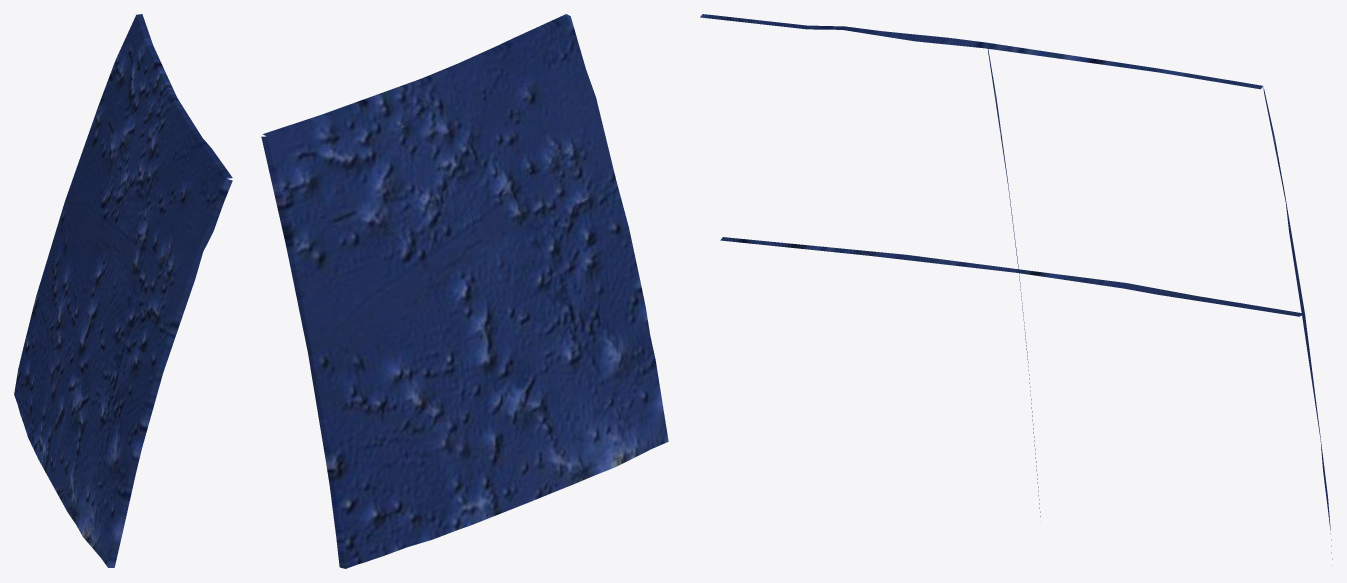
3 views of the same model, side by side, from view 1: azimuth 30°, elevation 25°; view 2: azimuth 150°, elevation 25°; view 3: azimuth 270°, elevation 25° (orthographic). The views are drawn at different scales.
Size of the model in its own units: 710332 by 1207551 by 1255413.
Materials: 1 (1 with a texture image).
